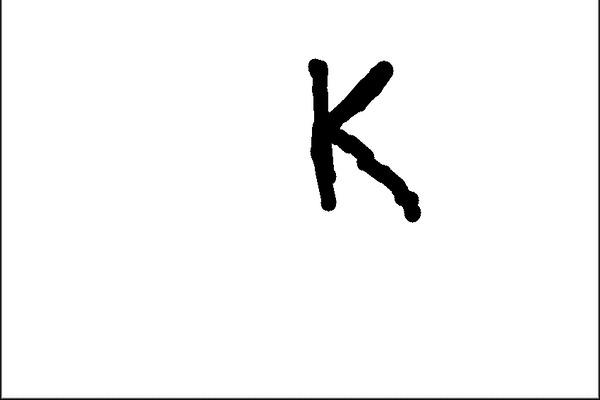K: (300, 48, 430, 231)
